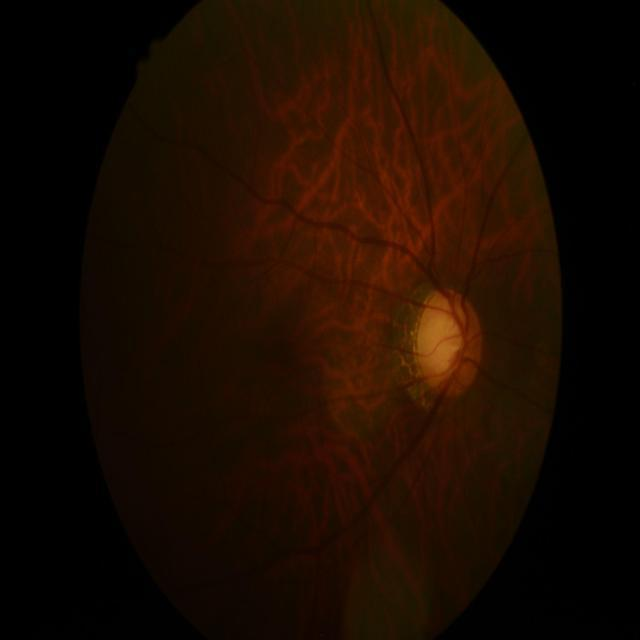cup: (429, 301, 469, 384)
disk: (415, 289, 483, 398)
